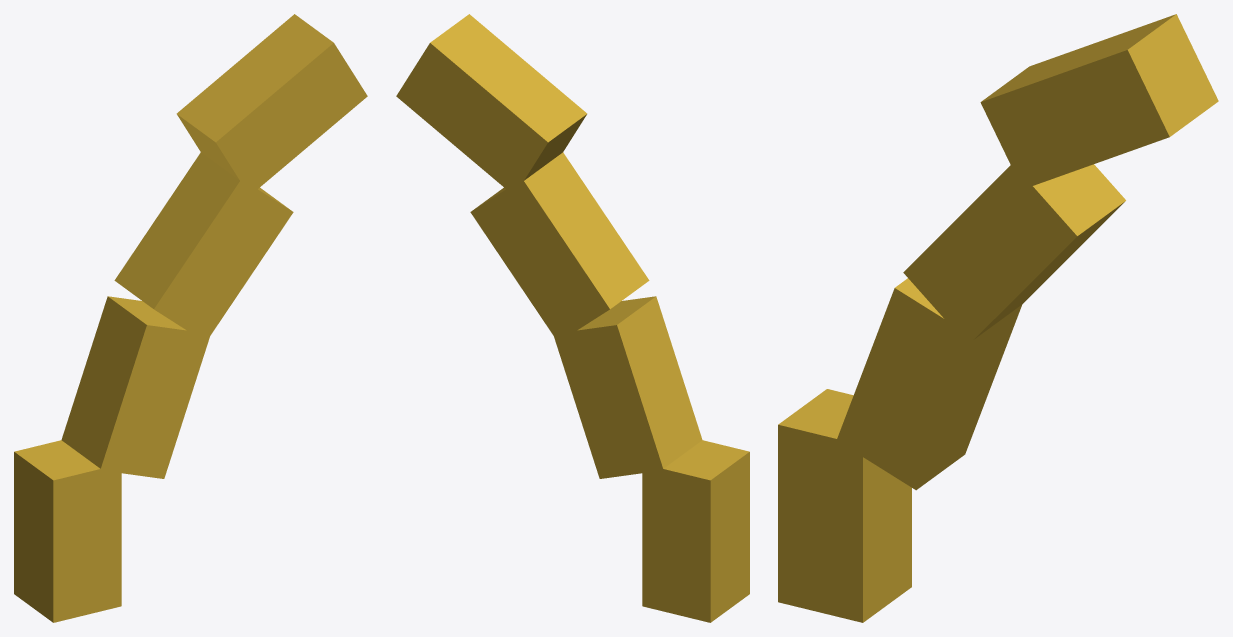
Rendered from naga_ornament.glb.
The picture shows the model from 3 angles, left to right: view 1: azimuth 30°, elevation 25°; view 2: azimuth 150°, elevation 25°; view 3: azimuth 330°, elevation 25°; orthographic projection. The views are drawn at different scales.
Parts seen in each view (by area): view 1: Khmer_Naga_Ornament; view 2: Khmer_Naga_Ornament; view 3: Khmer_Naga_Ornament.
Part boxes in pixels (bbox=[...]): Khmer_Naga_Ornament: bbox=[14, 14, 367, 622]; Khmer_Naga_Ornament: bbox=[396, 14, 749, 622]; Khmer_Naga_Ornament: bbox=[778, 14, 1218, 622].
Size of the model in its own units: 0.1846 by 0.2873 by 0.04.
